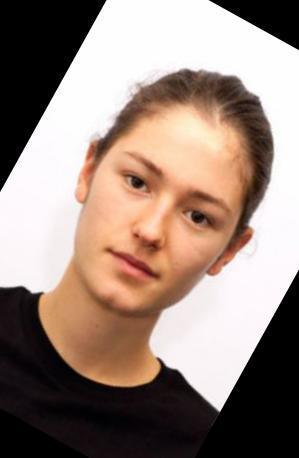Sober: (95, 114, 228, 301)
